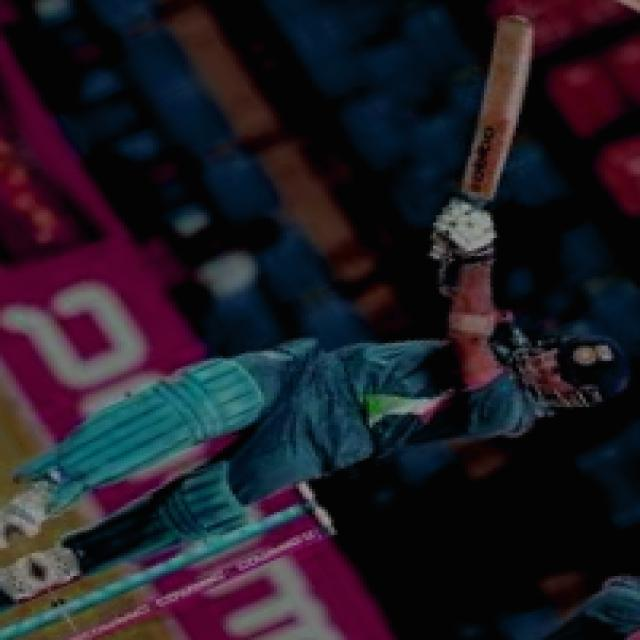toe: (496, 4, 540, 63)
